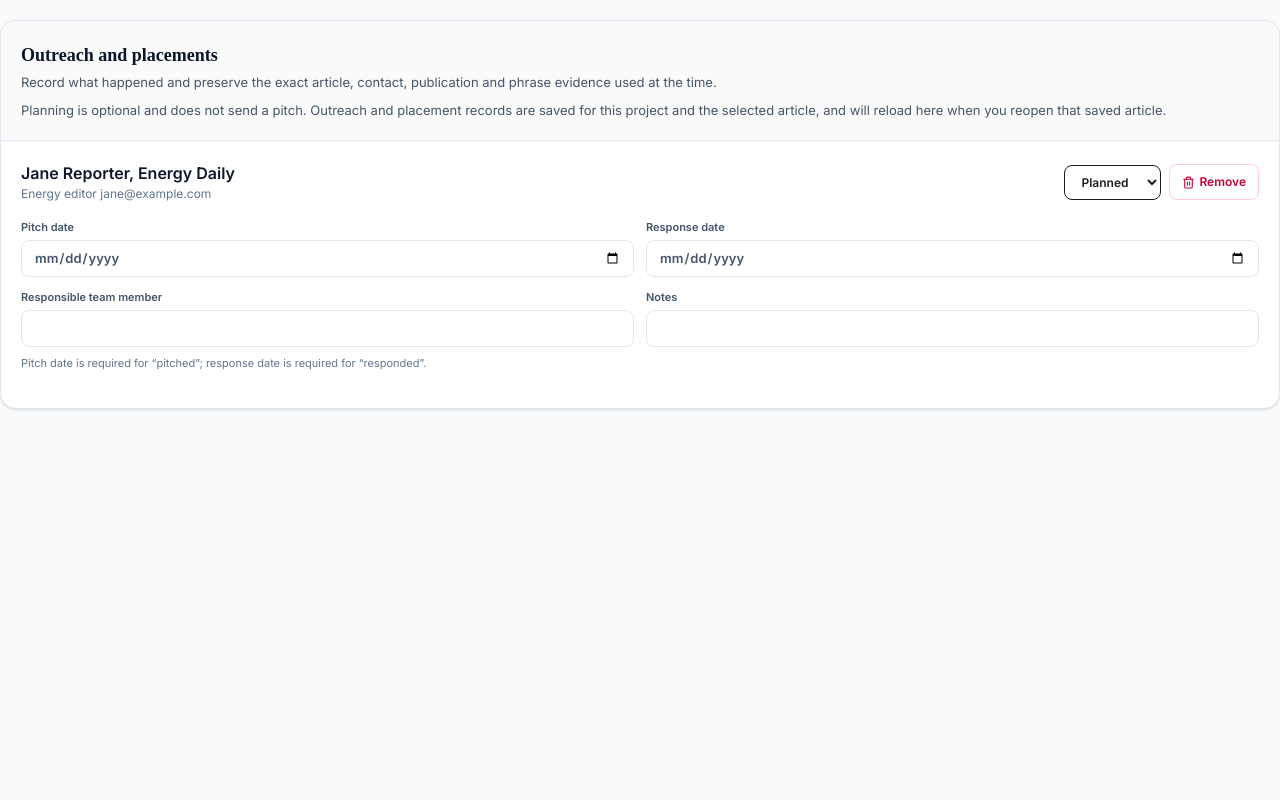
Test: MediaOutreachPanel › keeps the journalist and permits retry when removal fails
Click the button with aria-label "Remove Jane Reporter from outreach and placements". click: point(1214, 182)
box: [1169,164,1259,200]
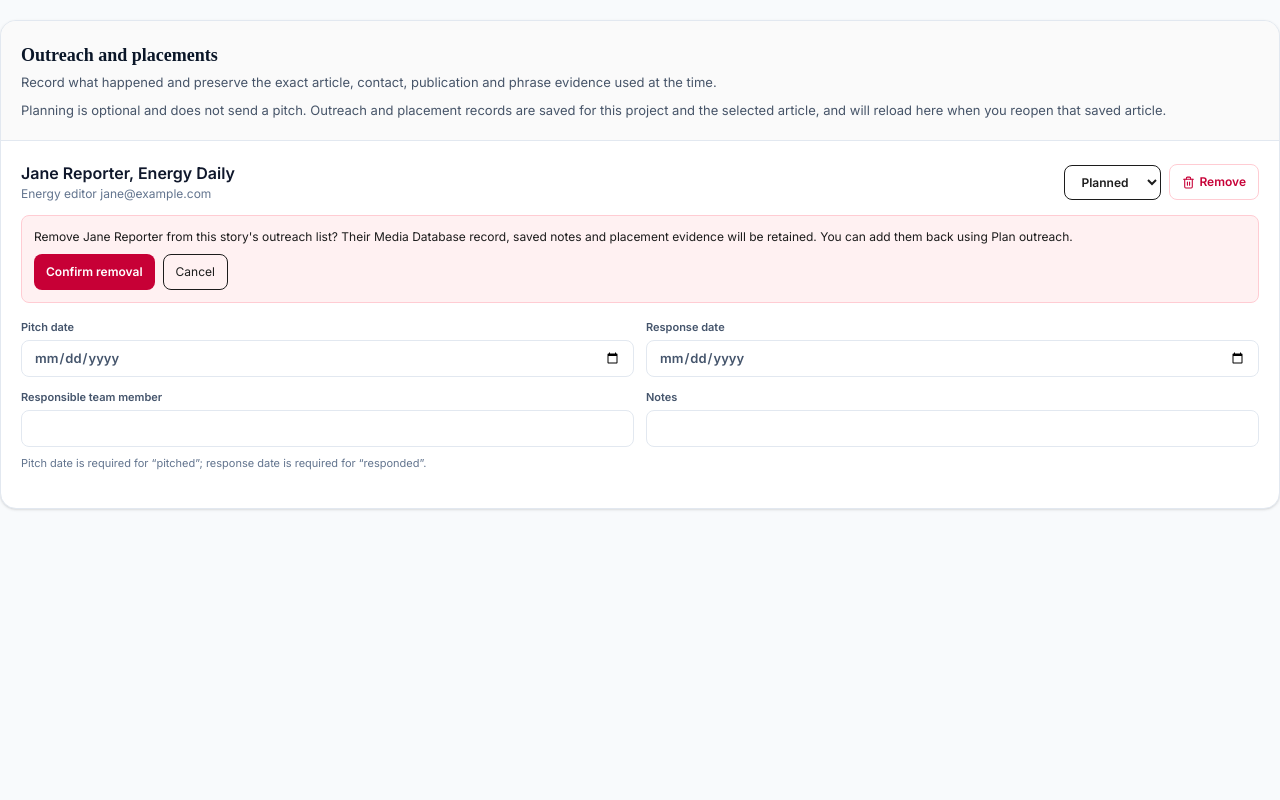
Click the button "Confirm removal". click: point(94, 272)
box: [34,254,154,290]
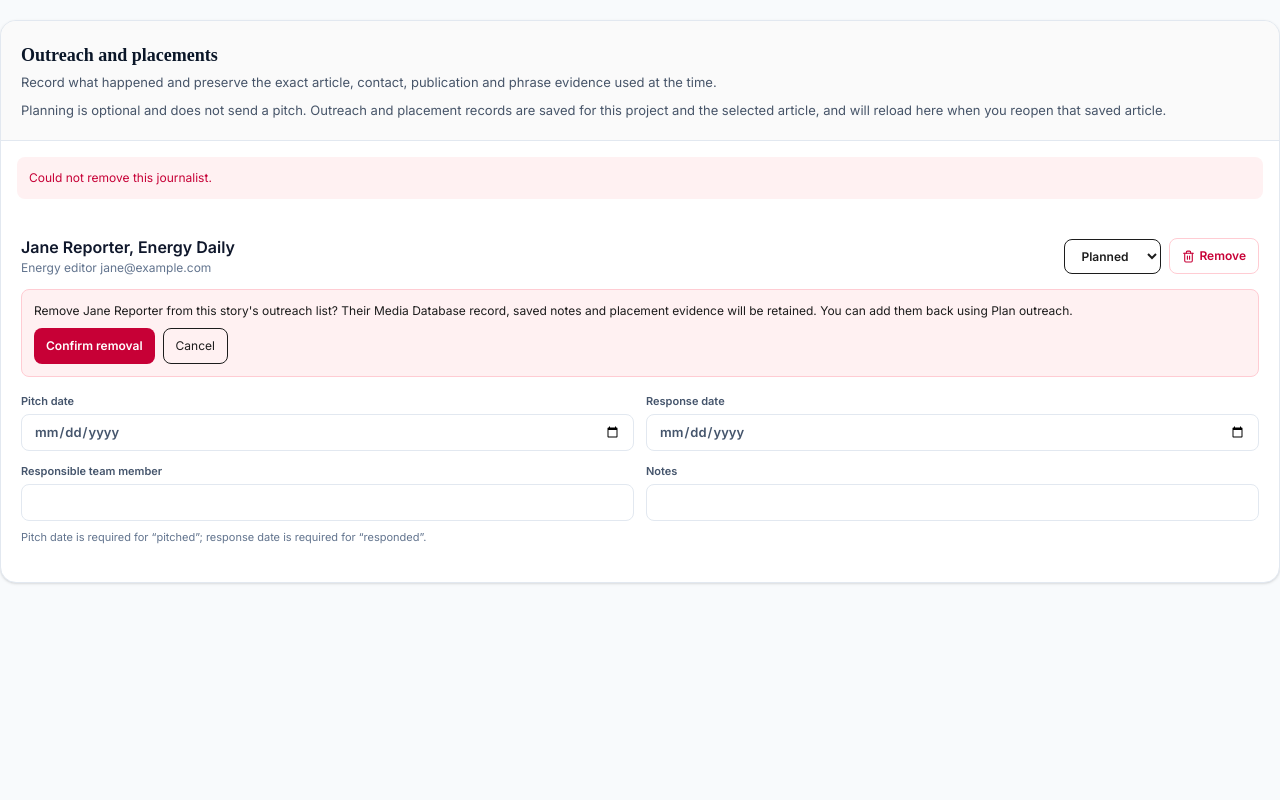
expect the button with aria-label "Remove Jane Reporter from outreach and placements" is enabled: met, box [1169,238,1259,274]
expect the button "Confirm removal" is enabled: met
expect the message reads "Could not remove this journalist.": met, box [29,170,212,185]
Click the button "Confirm removal". click: point(94, 346)
box: [34,328,154,364]
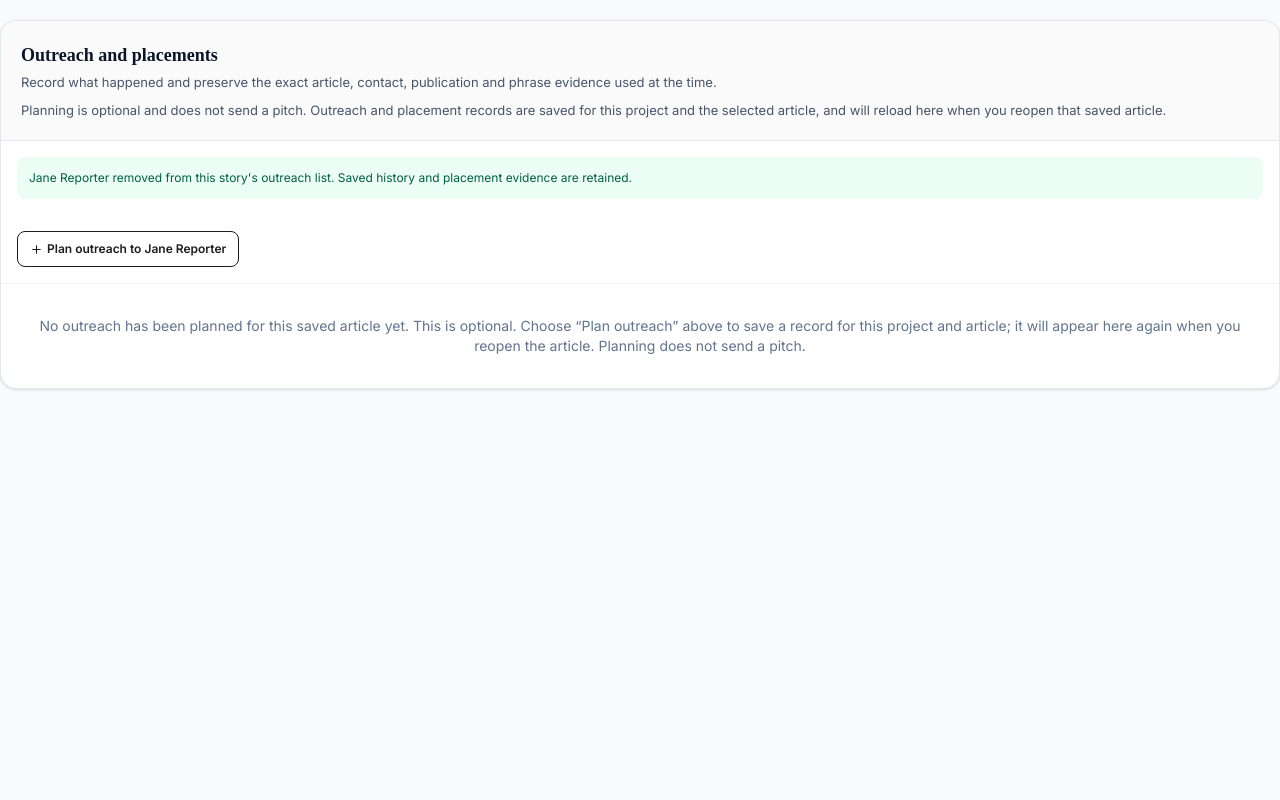
expect the message shows "Jane Reporter removed": met, box [29,170,632,185]
